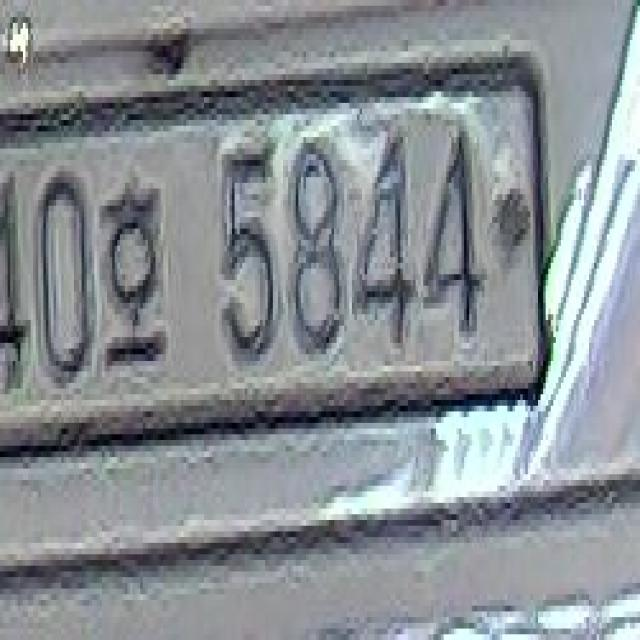0: (36, 165, 94, 388)
4: (416, 132, 487, 332), (354, 131, 416, 343)
5: (220, 131, 280, 360)
8: (288, 131, 344, 366)
ho: (100, 172, 174, 372)
license_plate: (2, 63, 546, 440)
